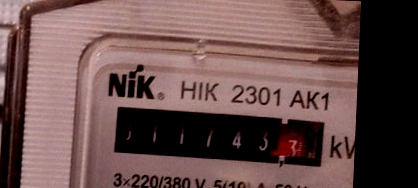0: (119, 114, 134, 142)
1: (146, 116, 161, 144), (174, 118, 188, 146)
3: (254, 125, 270, 153), (283, 137, 299, 158)
4: (228, 125, 244, 151)
7: (201, 122, 216, 148)
screen: (105, 100, 333, 174)
